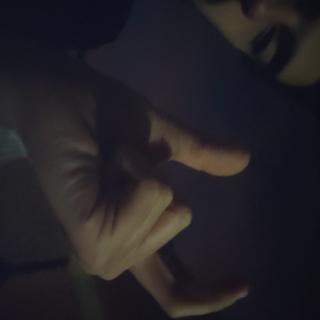NOON: (39, 79, 239, 320)
